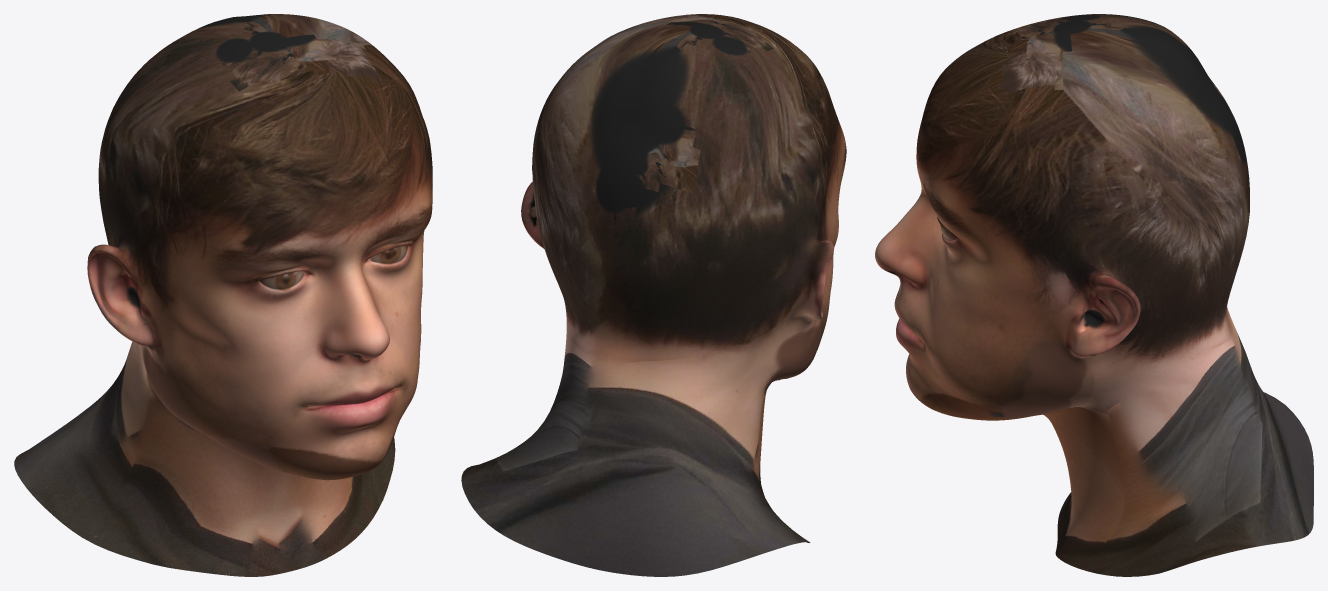
Rendered from otherface.glb.
The picture shows the model from 3 angles, left to right: view 1: azimuth 30°, elevation 25°; view 2: azimuth 150°, elevation 25°; view 3: azimuth 270°, elevation 25°; orthographic projection. The views are drawn at different scales.
Parts seen in each view (by area): view 1: FBHead; view 2: FBHead; view 3: FBHead.
Boxes of the visible parts, <box> form: FBHead: <box>14,14,432,576</box>; FBHead: <box>461,14,846,576</box>; FBHead: <box>875,14,1313,576</box>.
Bounding box in the file's own units: 1.8 × 2.59 × 2.01.
1 material, 1 textured.
